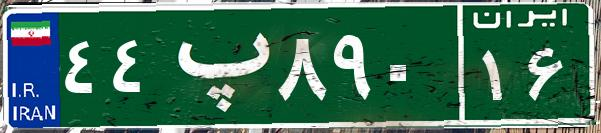0: (385, 28, 445, 110)
1: (475, 38, 525, 113)
4: (57, 26, 110, 107), (110, 28, 158, 105)
6: (525, 38, 570, 115)
8: (273, 28, 330, 110)
9: (330, 28, 385, 110)
پ: (158, 15, 273, 115)
